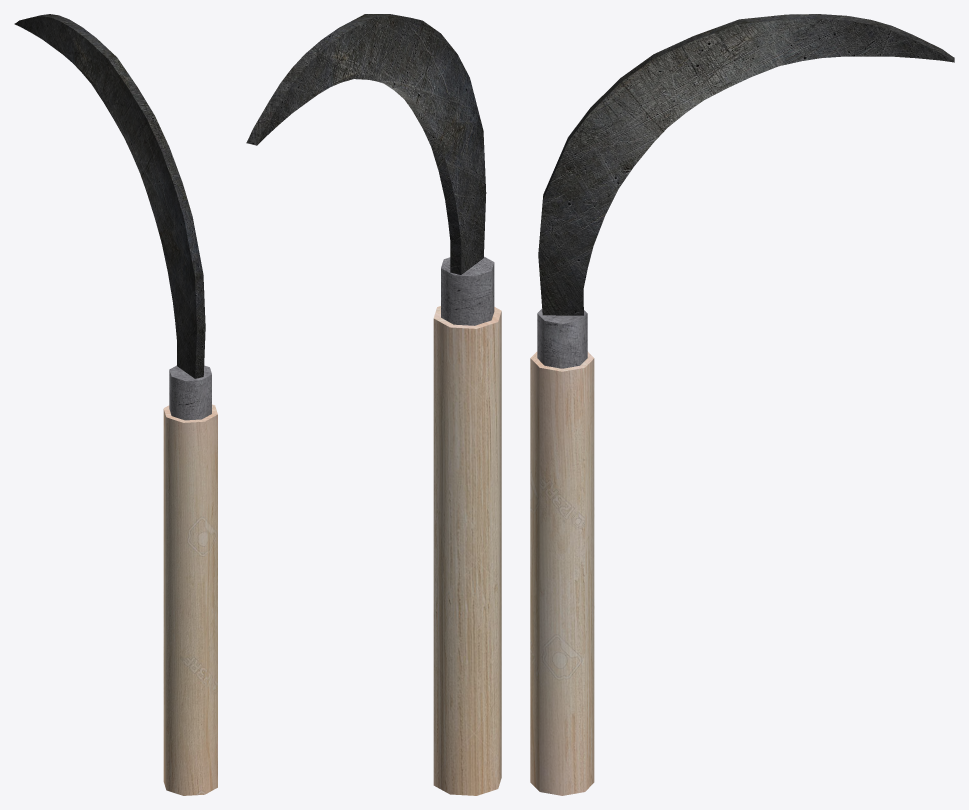
3 renders of one model, left to right at view 1: azimuth 30°, elevation 25°; view 2: azimuth 150°, elevation 25°; view 3: azimuth 270°, elevation 25°, orthographic. The views are drawn at different scales.
Visible parts, largest first — view 1: Cylinder001; view 2: Cylinder001; view 3: Cylinder001.
Part boxes in pixels (x1,y1,x2,y2): Cylinder001: [14, 14, 217, 795]; Cylinder001: [246, 14, 501, 795]; Cylinder001: [530, 14, 954, 795].
Size of the model in its own units: 4.02 by 53.09 by 26.65.
1 material, 1 textured.
